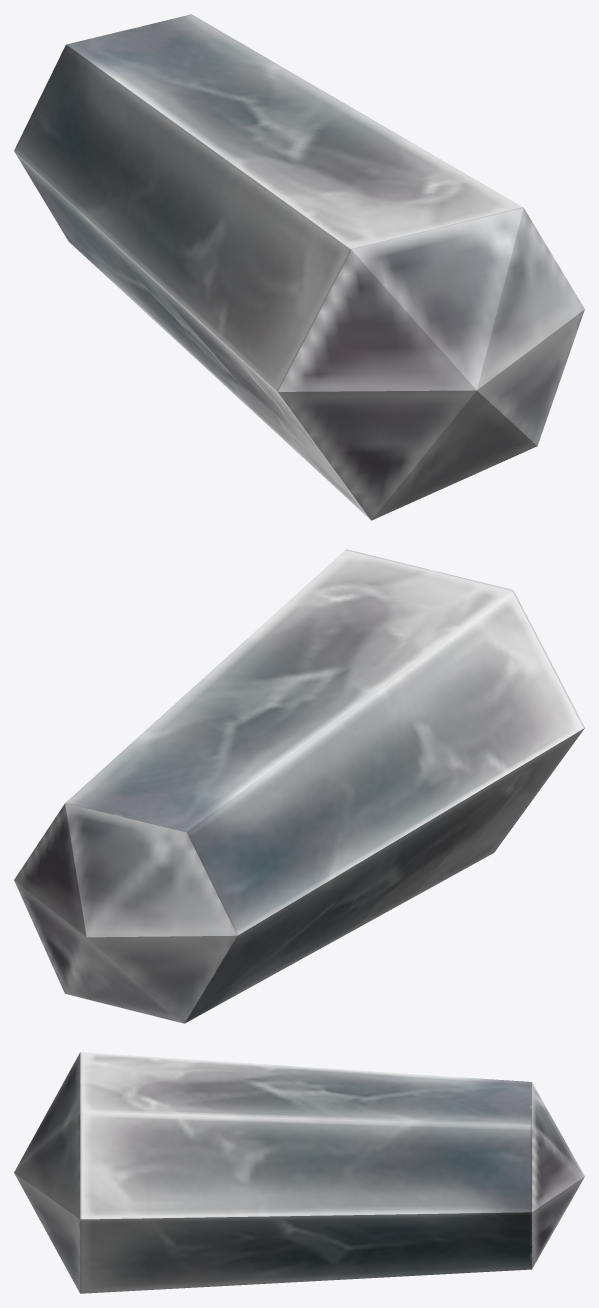
File: Crystal_Sml_B_01.FBX
The picture shows the model from 3 angles, top to bottom: view 1: azimuth 30°, elevation 25°; view 2: azimuth 150°, elevation 25°; view 3: azimuth 270°, elevation 25°; orthographic projection. The views are drawn at different scales.
Visible parts, largest first — view 1: Crystal_Sml_B_01; view 2: Crystal_Sml_B_01; view 3: Crystal_Sml_B_01.
Part boxes in pixels (x1=…): Crystal_Sml_B_01: x1=14, y1=14, x2=584, y2=520; Crystal_Sml_B_01: x1=14, y1=549, x2=584, y2=1023; Crystal_Sml_B_01: x1=14, y1=1052, x2=584, y2=1293.
Bounding box in the file's own units: 84.43 × 72.42 × 187.
Materials: 1 (1 with a texture image).
